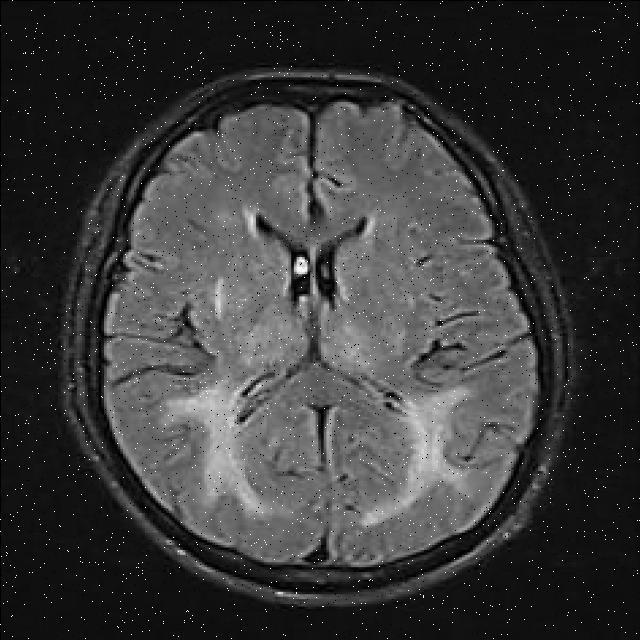No_Tumor: (63, 69, 574, 603)
